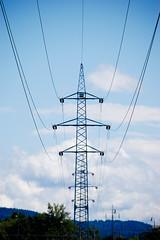power_tower: (54, 58, 117, 234)
